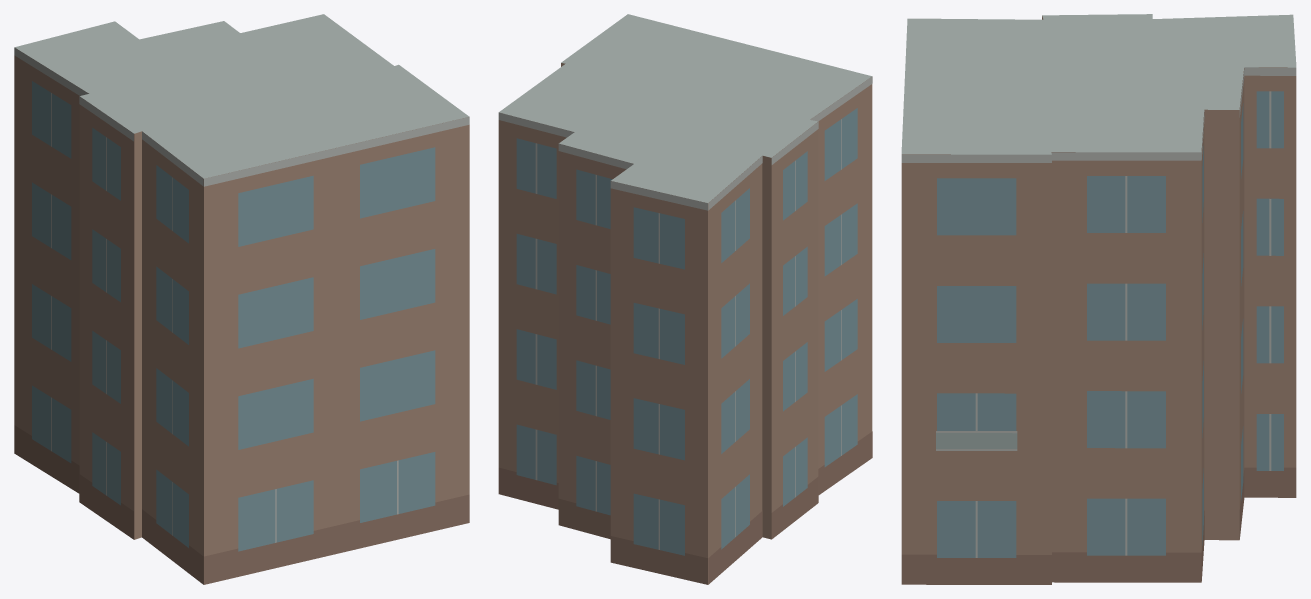
File: survey-upis-32906310.glb
The picture shows the model from 3 angles, left to right: view 1: azimuth 30°, elevation 25°; view 2: azimuth 150°, elevation 25°; view 3: azimuth 270°, elevation 25°; orthographic projection. The views are drawn at different scales.
Parts seen in each view (by area): view 1: survey-upis-32906310.tmp; view 2: survey-upis-32906310.tmp; view 3: survey-upis-32906310.tmp.
Boxes of the visible parts, x1,y1,x2,y2 form: survey-upis-32906310.tmp: (14,14,469,584); survey-upis-32906310.tmp: (498,14,872,584); survey-upis-32906310.tmp: (901,14,1296,584).
Bounding box in the file's own units: 8.73 × 12.4 × 10.33.
